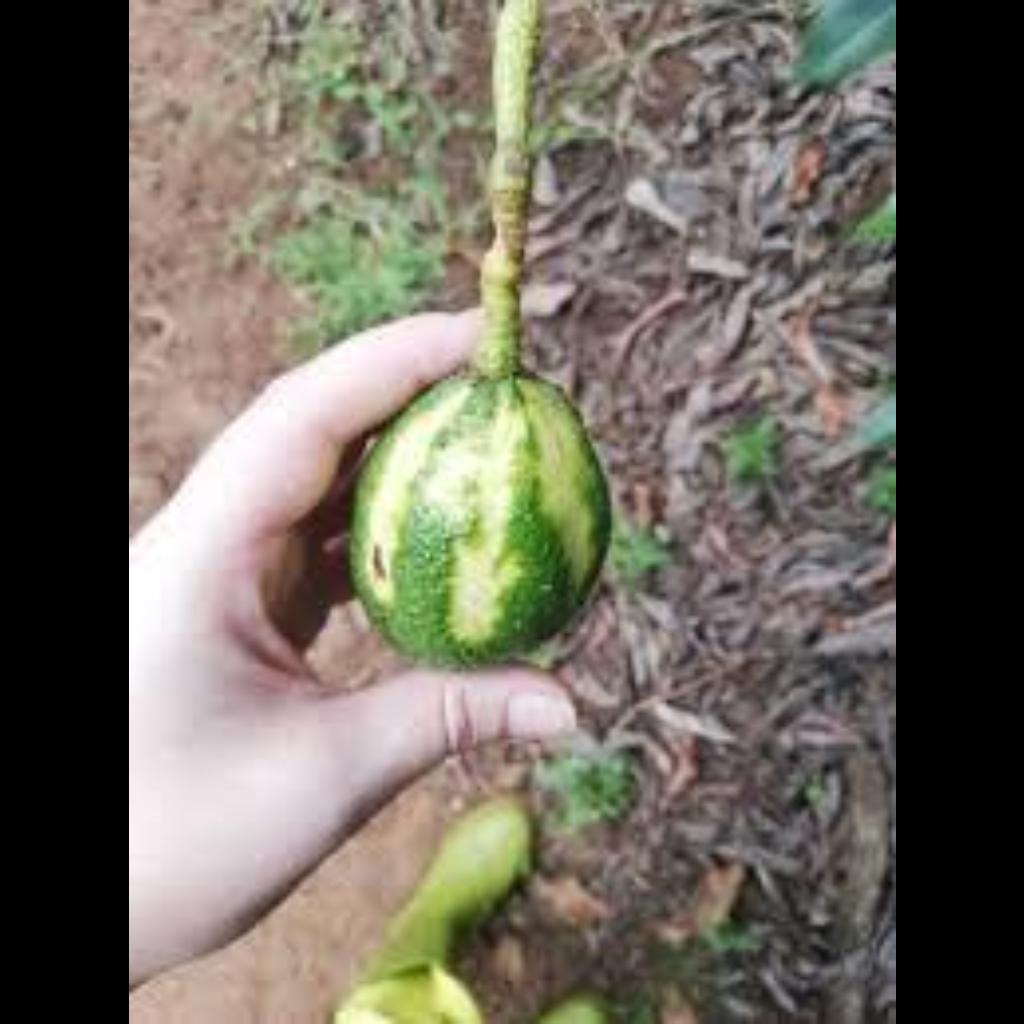sunblotch: (343, 348, 628, 700)
